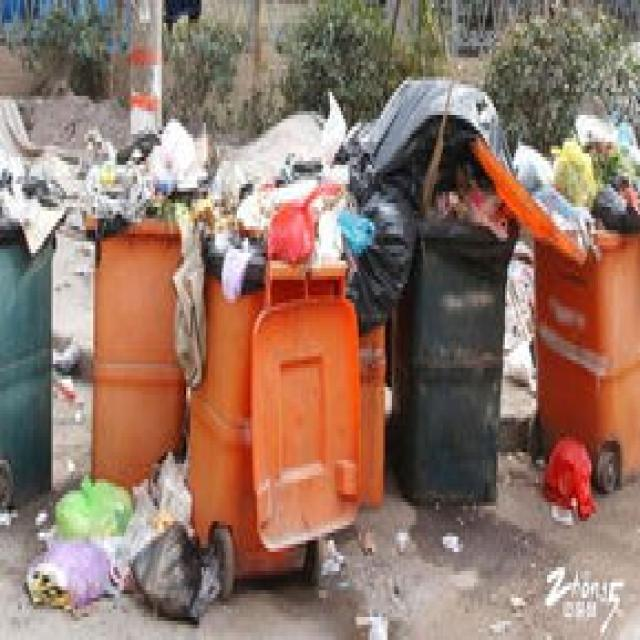garbage: (22, 444, 217, 621), (540, 433, 596, 521)
overflow: (170, 88, 361, 579), (390, 73, 516, 502), (531, 107, 638, 479), (80, 119, 186, 475), (0, 96, 69, 502)
